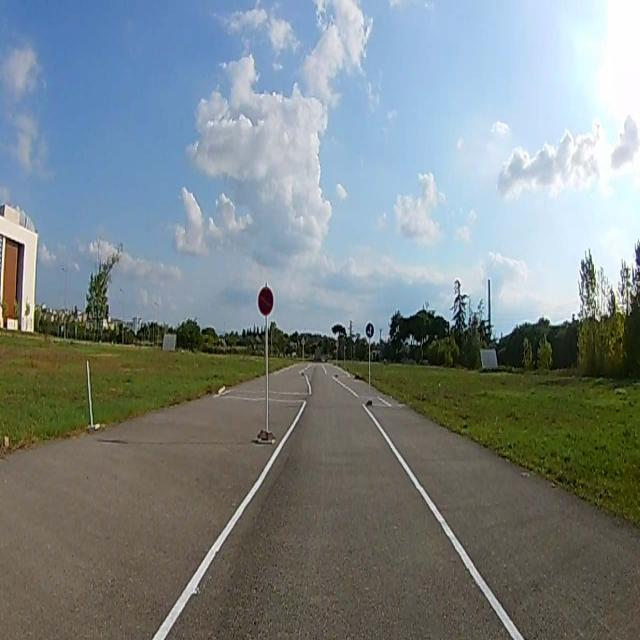parkyasak: (257, 287, 274, 317)
